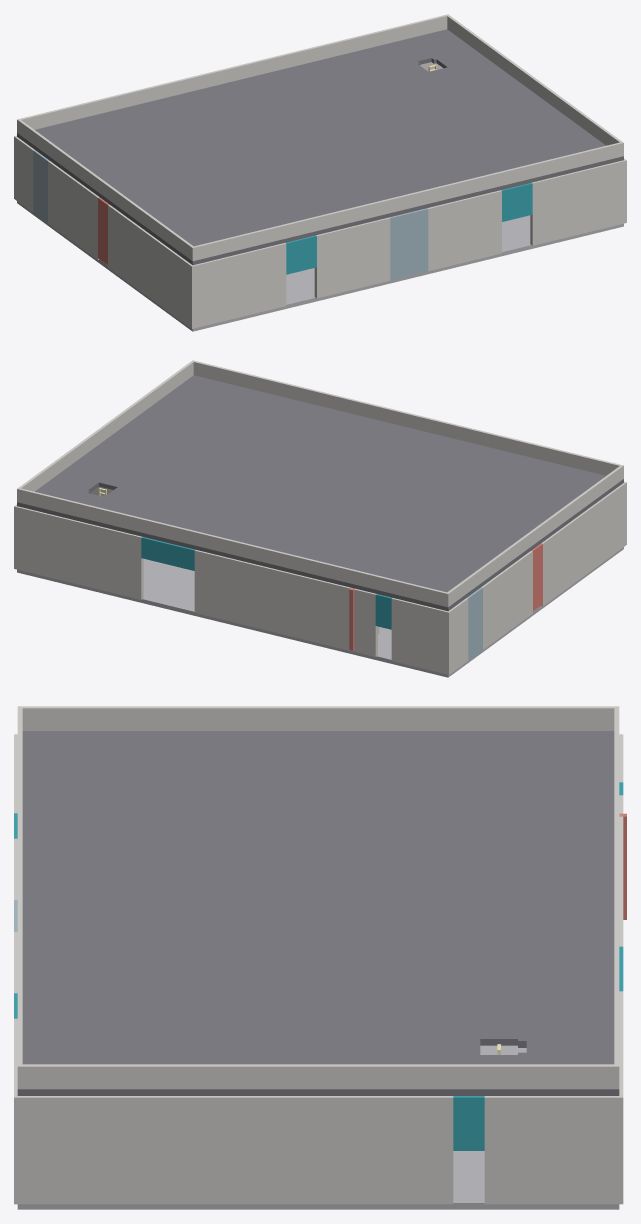
The model's file is landmark_hall_a01.glb.
3 renders of one model, top to bottom at view 1: azimuth 30°, elevation 25°; view 2: azimuth 150°, elevation 25°; view 3: azimuth 270°, elevation 25°, orthographic. The views are drawn at different scales.
Visible parts, largest first — view 1: slab_1_t3_2, slab_1_t1_4, slab_1_t2_2, slab_1_t3_5, slab_1_t1_2, slab_1_t2_3, slab_1_t2_4, slab_1_t3_4, slab_1_t1_1, slab_1_t1_3, slab_1_t1_5, slab_1_t2_1 (+80 smaller); view 2: slab_1_t1_2, slab_1_t3_4, slab_1_t1_5, slab_1_t2_2, slab_1_t1_4, slab_1_t2_3, slab_1_t2_4, slab_1_t3_2, slab_1_t1_1, slab_1_t1_3, slab_1_t2_1, slab_1_t3_1 (+77 smaller); view 3: slab_1_t1_1, slab_1_t1_3, slab_1_t1_5, slab_1_t2_1, slab_1_t2_2, slab_1_t2_3, slab_1_t2_4, slab_1_t2_5, slab_1_t3_1, slab_1_t3_3, slab_1_t3_5, slab_1_t1_2 (+53 smaller).
Boxes of the visible parts, left/top/right/bottom form: slab_1_t3_2: left=175, top=113, right=271, bottom=153; slab_1_t1_4: left=369, top=135, right=465, bottom=175; slab_1_t2_2: left=211, top=139, right=306, bottom=179; slab_1_t3_5: left=360, top=68, right=456, bottom=108; slab_1_t1_2: left=246, top=165, right=341, bottom=205; slab_1_t2_3: left=272, top=124, right=368, bottom=164; slab_1_t2_4: left=334, top=109, right=429, bottom=149; slab_1_t3_4: left=299, top=83, right=394, bottom=123; slab_1_t1_1: left=184, top=180, right=280, bottom=220; slab_1_t1_3: left=307, top=150, right=403, bottom=190; slab_1_t1_5: left=431, top=120, right=526, bottom=160; slab_1_t2_1: left=149, top=154, right=245, bottom=194; slab_1_t1_2: left=369, top=459, right=465, bottom=499; slab_1_t3_4: left=175, top=481, right=271, bottom=521; slab_1_t1_5: left=184, top=414, right=280, bottom=454; slab_1_t2_2: left=334, top=485, right=429, bottom=525; slab_1_t1_4: left=246, top=429, right=341, bottom=469; slab_1_t2_3: left=272, top=470, right=368, bottom=510; slab_1_t2_4: left=211, top=455, right=306, bottom=495; slab_1_t3_2: left=299, top=511, right=394, bottom=551; slab_1_t1_1: left=431, top=474, right=526, bottom=514; slab_1_t1_3: left=308, top=444, right=403, bottom=484; slab_1_t2_1: left=395, top=500, right=491, bottom=540; slab_1_t3_1: left=360, top=526, right=456, bottom=566; slab_1_t1_1: left=138, top=780, right=258, bottom=831; slab_1_t1_3: left=138, top=883, right=258, bottom=934; slab_1_t1_5: left=138, top=986, right=258, bottom=1037; slab_1_t2_1: left=258, top=780, right=378, bottom=831; slab_1_t2_2: left=258, top=832, right=378, bottom=883; slab_1_t2_3: left=258, top=883, right=378, bottom=934; slab_1_t2_4: left=258, top=935, right=378, bottom=986; slab_1_t2_5: left=258, top=986, right=378, bottom=1037; slab_1_t3_1: left=378, top=780, right=498, bottom=831; slab_1_t3_3: left=378, top=883, right=498, bottom=934; slab_1_t3_5: left=378, top=986, right=498, bottom=1037; slab_1_t1_2: left=138, top=832, right=258, bottom=883.
Size of what is drawn, in the model's own units: 34.3 by 6.3 by 24.45.
